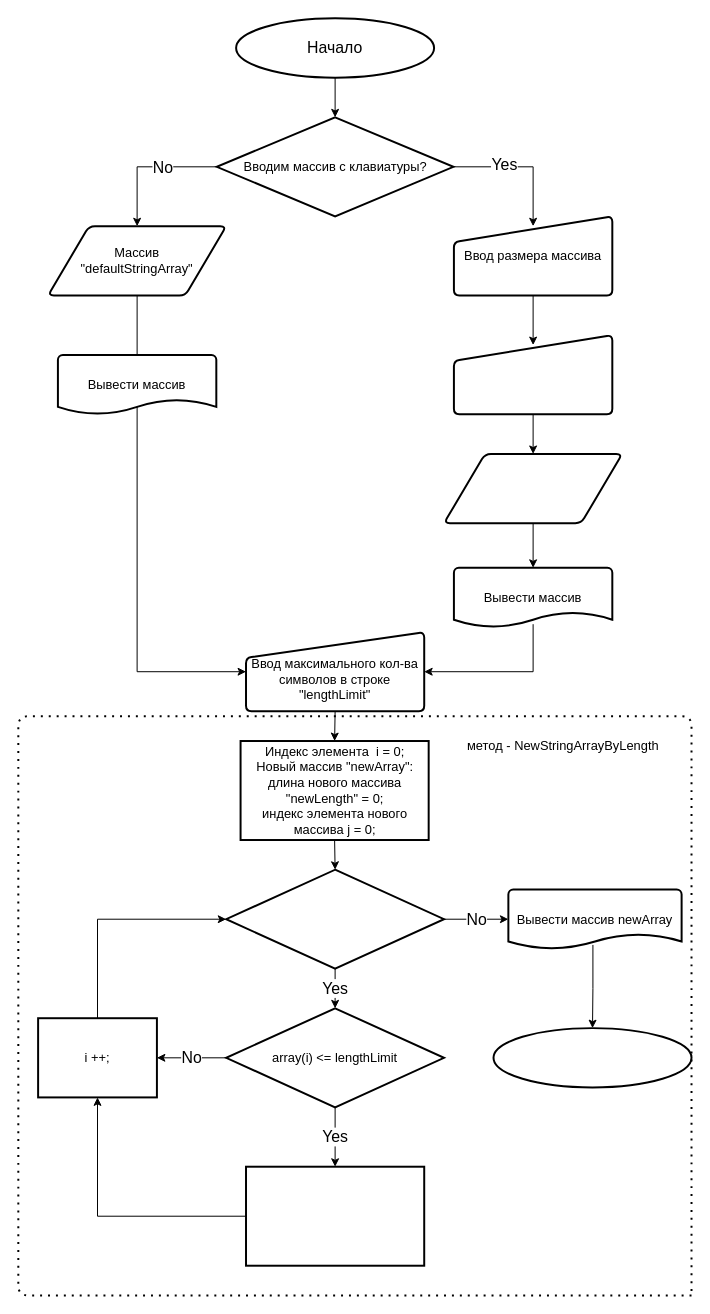
This 710x1314 diagram has some shape labels left out. The shapes that lost their labels are listed below. From the top down, each one's centre as x and y in pixels, then its label:
(532,374): Ввод элементов массива метод - NewStringArrayInput
(533,488): Готовый массив "array"
(335,918): i < длина начального массива
(592,1057): Конец
(335,1215): newLength ++; j ++; метод - ResizeStringArray; newArray(j) = array(i);
